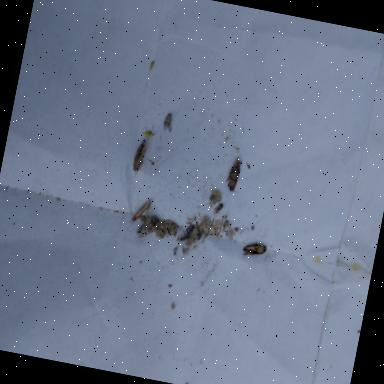pbw: (126, 195, 153, 230), (224, 154, 246, 196), (135, 212, 164, 243), (130, 136, 148, 178), (242, 240, 268, 260), (162, 112, 174, 134)
